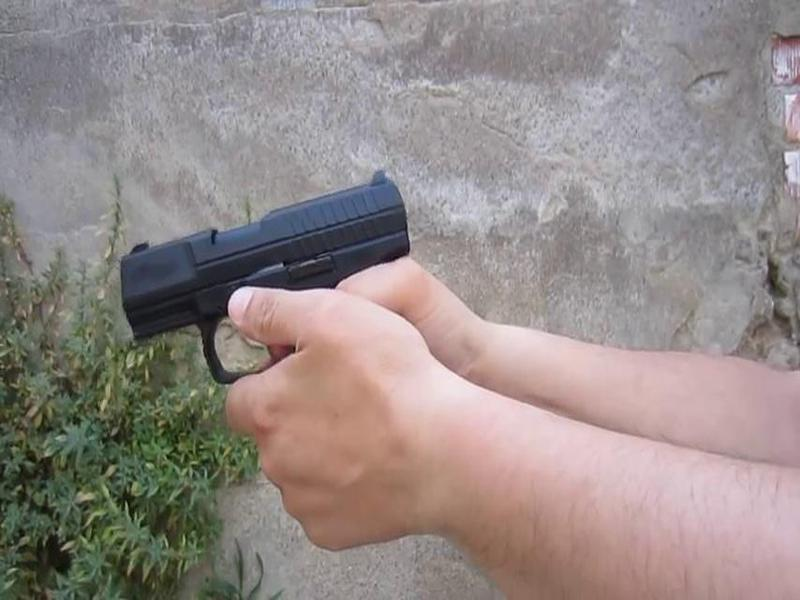Pistola: (97, 155, 461, 407)
